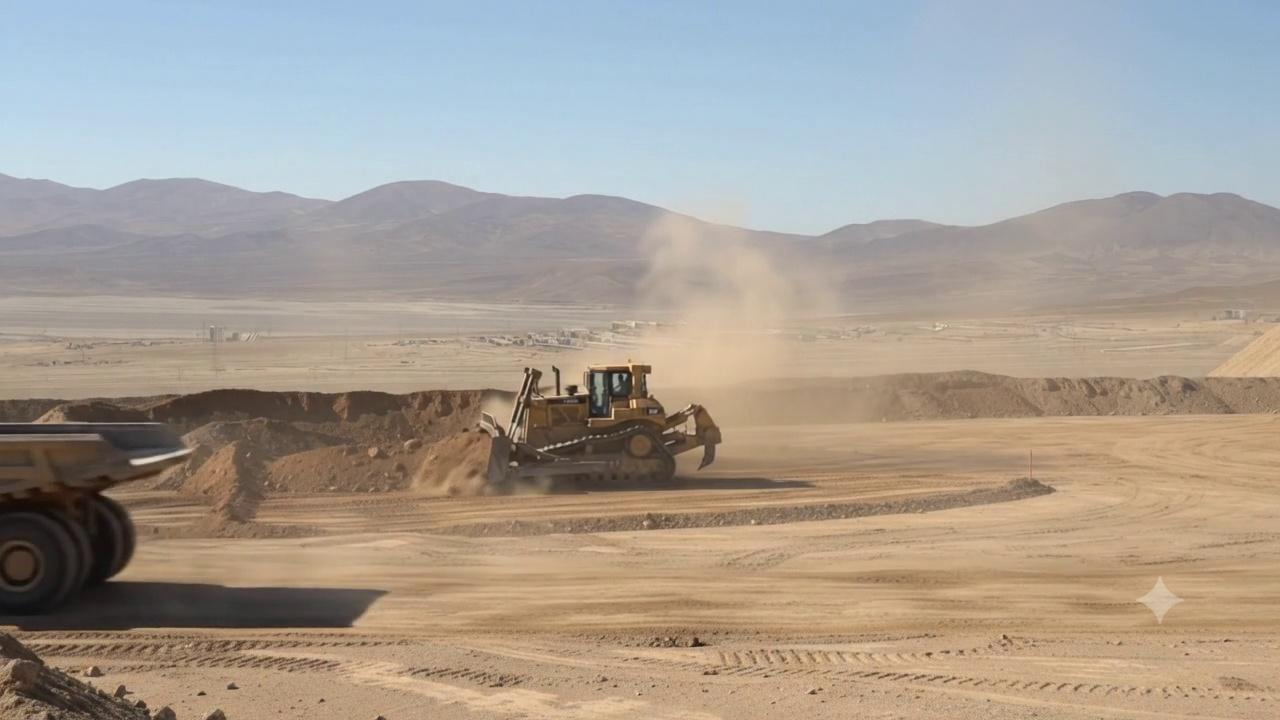CAEX: (1, 418, 196, 613), (478, 362, 722, 490)
